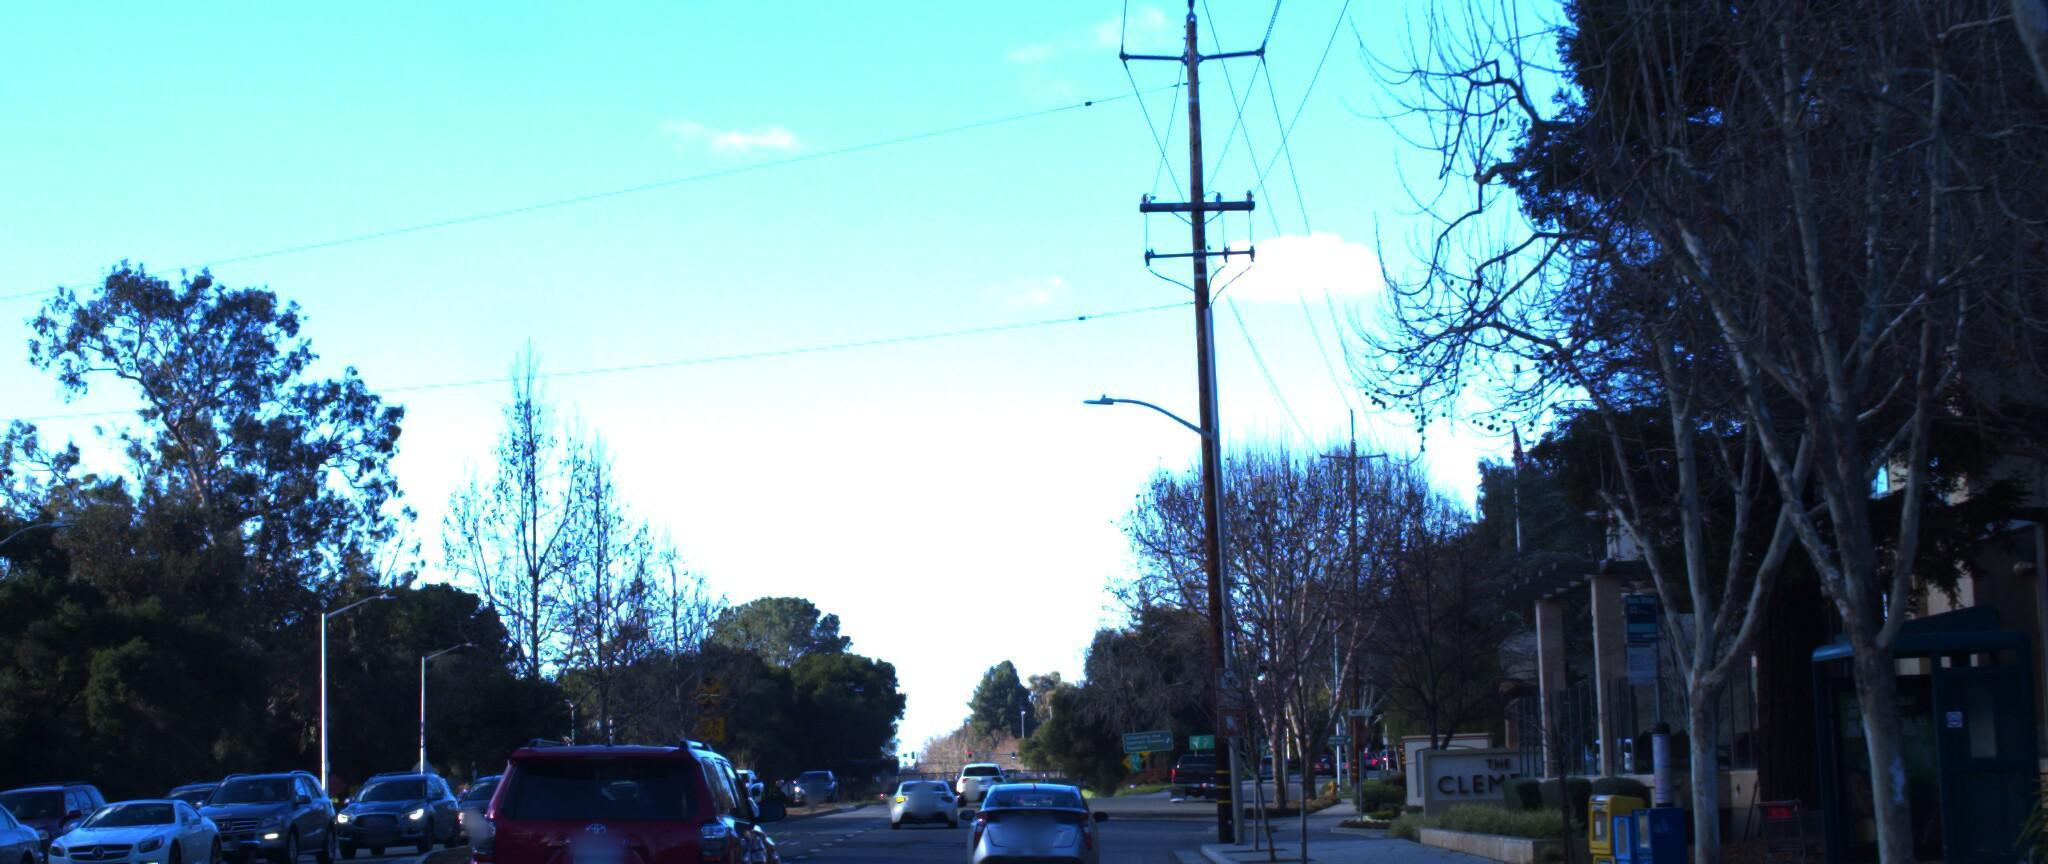car: (453, 726, 802, 864), (179, 750, 353, 861), (40, 780, 249, 864), (960, 767, 1112, 864), (341, 749, 482, 842), (876, 740, 951, 810), (0, 780, 57, 864)
